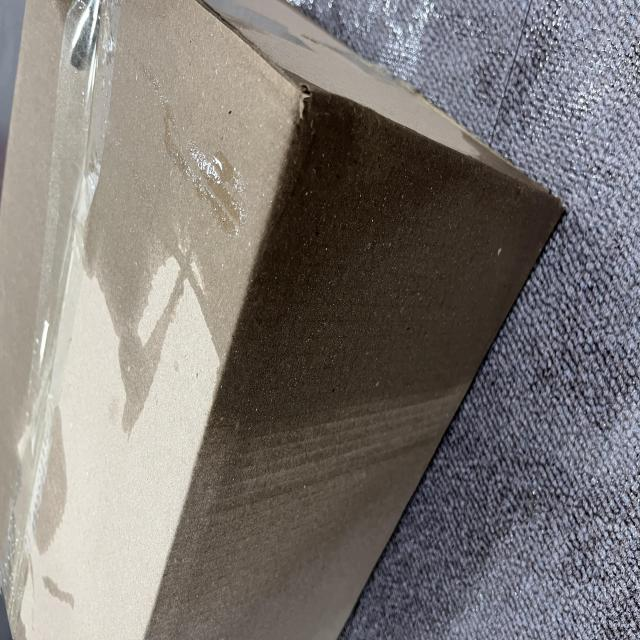wet: (141, 116, 453, 640)
